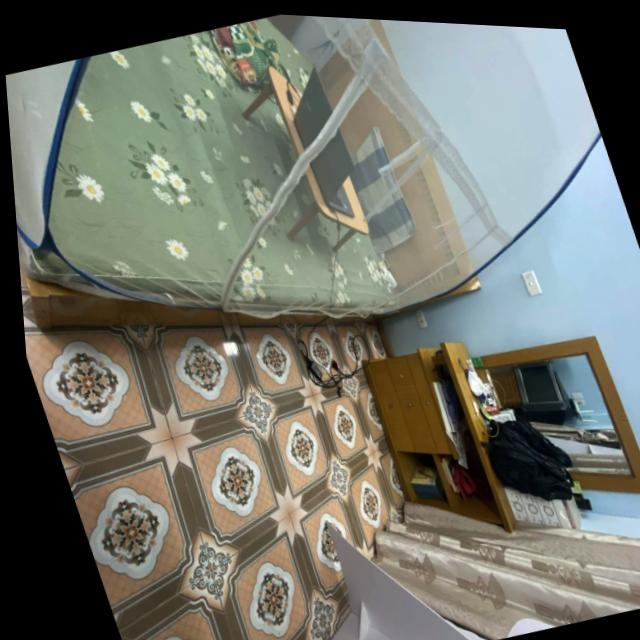outlet: (407, 305, 433, 340)
